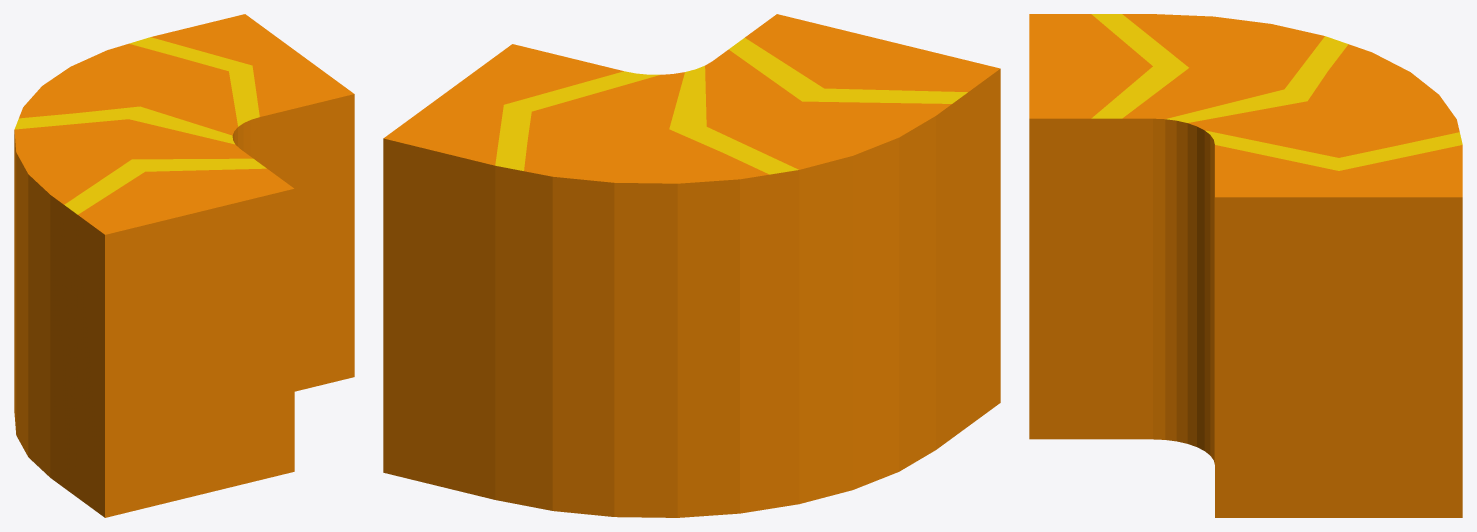
The model's file is Floor2.fbx.
3 views of the same model, side by side, from view 1: azimuth 30°, elevation 25°; view 2: azimuth 150°, elevation 25°; view 3: azimuth 270°, elevation 25° (orthographic). The views are drawn at different scales.
Parts seen in each view (by area): view 1: Cube.001; view 2: Cube.001; view 3: Cube.001.
Boxes of the visible parts, x1,y1,x2,y2 form: Cube.001: (14,14,354,517); Cube.001: (383,14,1000,517); Cube.001: (1029,14,1462,517).
Size of the model in its own units: 1470 by 1200 by 1470.
